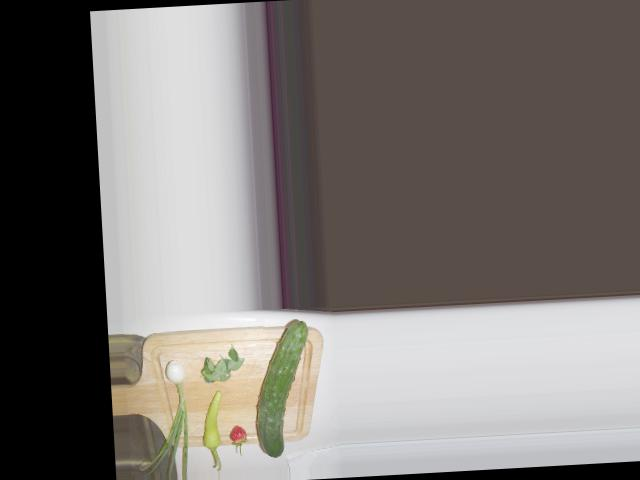cucumber: (251, 320, 315, 457)
